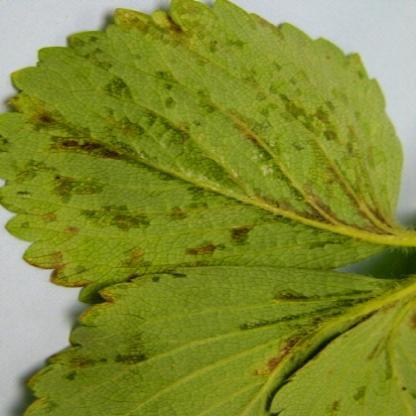Strawberry_Angular_LeafSpot: (0, 0, 404, 305), (22, 265, 415, 415), (270, 293, 415, 415)
